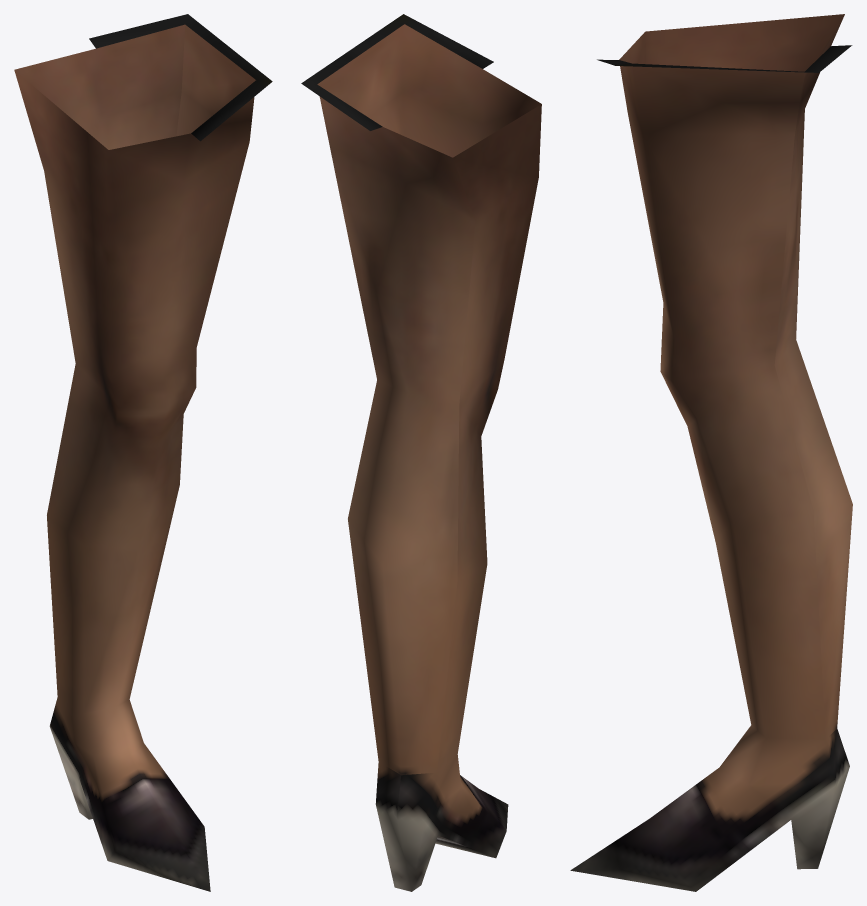
File: woman_left_leg.obj
The picture shows the model from 3 angles, left to right: view 1: azimuth 30°, elevation 25°; view 2: azimuth 150°, elevation 25°; view 3: azimuth 270°, elevation 25°; orthographic projection. The views are drawn at different scales.
Visible parts, largest first — view 1: character_secretary.001; view 2: character_secretary.001; view 3: character_secretary.001.
Part boxes in pixels (x1=…): character_secretary.001: x1=14, y1=14, x2=272, y2=891; character_secretary.001: x1=301, y1=14, x2=541, y2=891; character_secretary.001: x1=570, y1=14, x2=852, y2=891.
Bounding box in the file's own units: 0.1661 × 0.7606 × 0.2298.
Materials: 1 (1 with a texture image).
